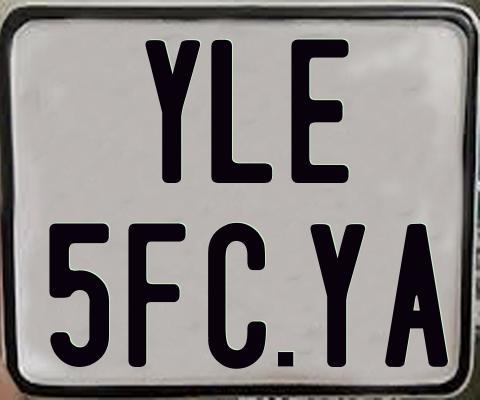5: (49, 223, 110, 373)
A: (383, 221, 449, 367)
C: (206, 222, 269, 372)
E: (289, 36, 353, 186)
F: (125, 221, 188, 369)
L: (208, 38, 274, 187)
Y: (308, 222, 366, 371), (144, 37, 199, 180)
